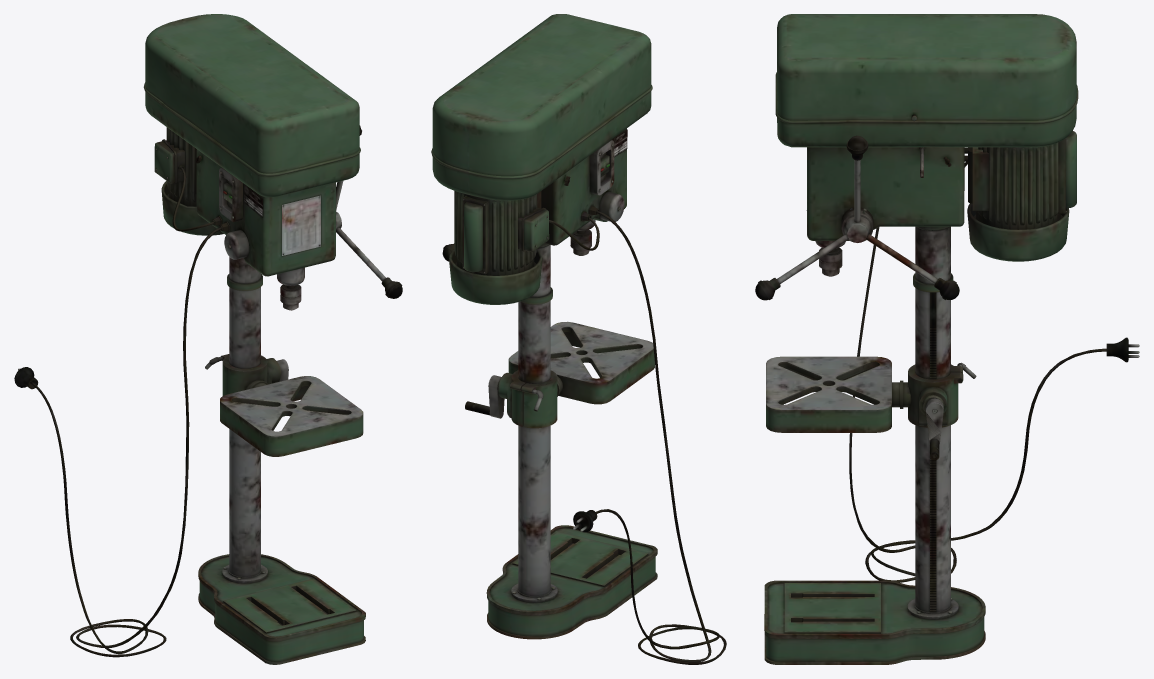
Rendered from old_drill_press.glb.
3 renders of one model, left to right at view 1: azimuth 30°, elevation 25°; view 2: azimuth 150°, elevation 25°; view 3: azimuth 270°, elevation 25°, orthographic. The views are drawn at different scales.
Visible parts, largest first — view 1: old_drill_press_cable; view 2: old_drill_press_cable; view 3: old_drill_press_cable.
Part boxes in pixels (left/top/right/bottom): old_drill_press_cable: left=14, top=14, right=402, bottom=664; old_drill_press_cable: left=431, top=14, right=726, bottom=664; old_drill_press_cable: left=755, top=14, right=1139, bottom=664.
Size of the model in its own units: 0.5273 by 1.05 by 0.6094.
1 material, 1 textured.
